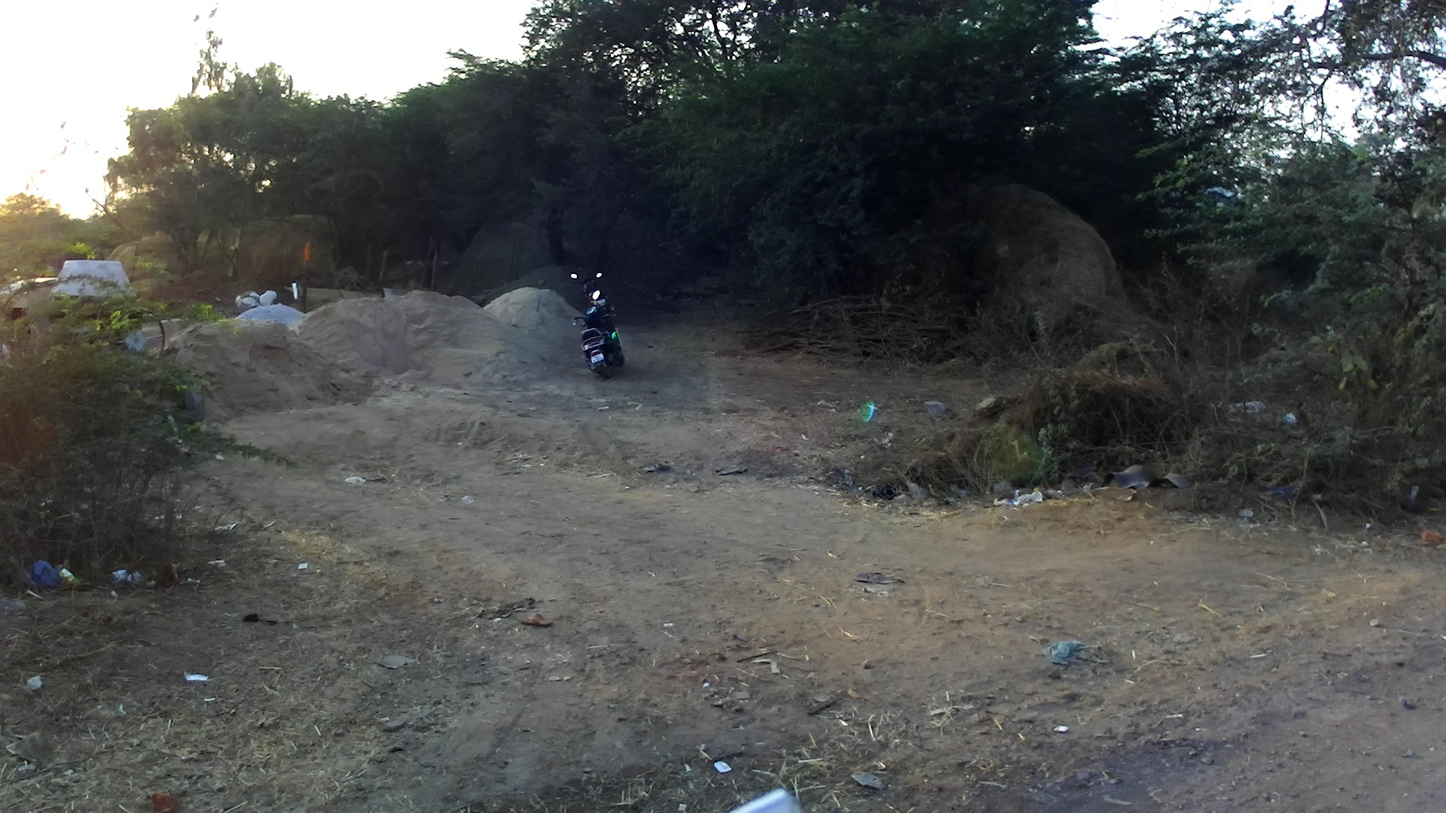motorcycle: (572, 290, 625, 380), (569, 271, 617, 322)
